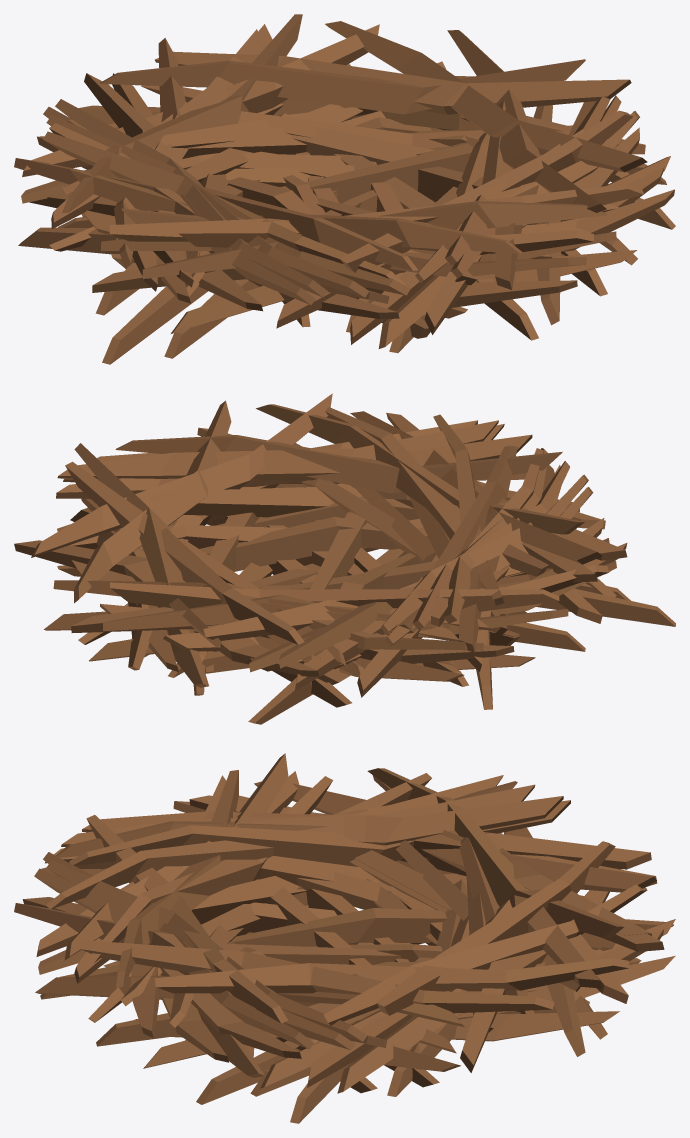
The model's file is birdnest.fbx.
The picture shows the model from 3 angles, top to bottom: view 1: azimuth 30°, elevation 25°; view 2: azimuth 150°, elevation 25°; view 3: azimuth 270°, elevation 25°; orthographic projection. The views are drawn at different scales.
Parts seen in each view (by area): view 1: birdnest_model; view 2: birdnest_model; view 3: birdnest_model.
Boxes of the visible parts, <box> form: birdnest_model: <box>14,14,675,364</box>; birdnest_model: <box>14,393,675,724</box>; birdnest_model: <box>14,753,675,1123</box>.
Size of the model in its own units: 94.61 by 18.74 by 89.55.
